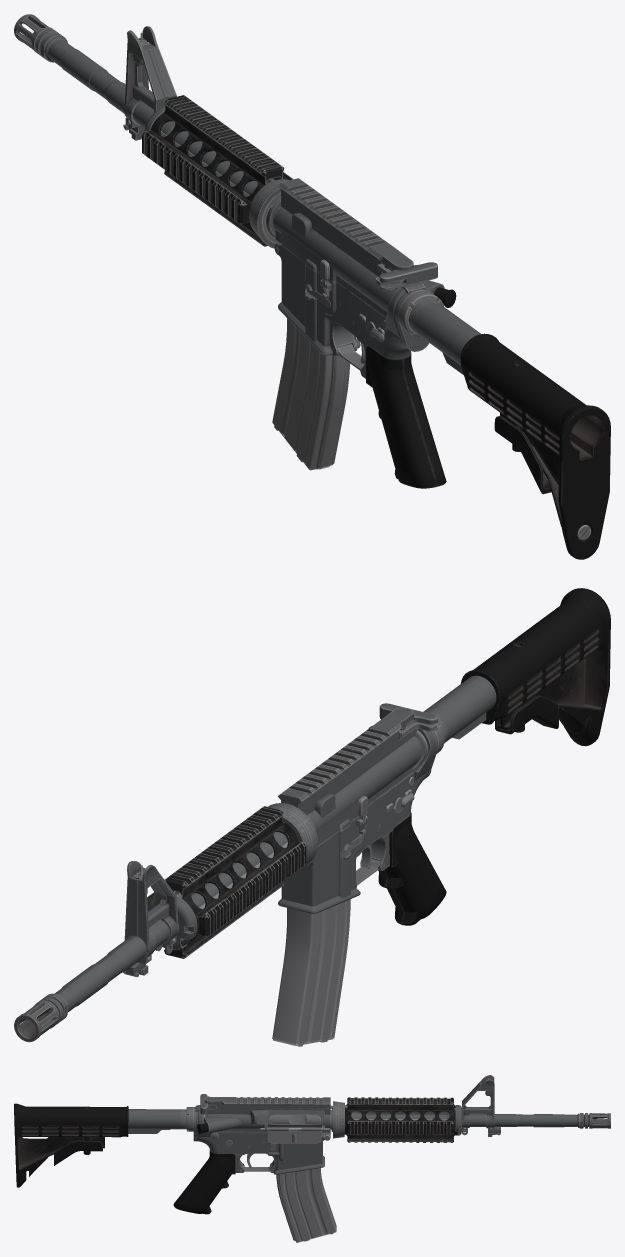
3 views of the same model, one above another, from view 1: azimuth 30°, elevation 25°; view 2: azimuth 150°, elevation 25°; view 3: azimuth 270°, elevation 25° (orthographic). The views are drawn at different scales.
Parts seen in each view (by area): view 1: ClassicBodyGeometry0, MagazineGeometry2; view 2: ClassicBodyGeometry0, MagazineGeometry2; view 3: ClassicBodyGeometry0, MagazineGeometry2, ChargingHandleGeometry1.
Part boxes in pixels (left/top/right/bottom): ClassicBodyGeometry0: left=14, top=14, right=610, bottom=559; MagazineGeometry2: left=272, top=318, right=350, bottom=470; ClassicBodyGeometry0: left=14, top=588, right=610, bottom=1042; MagazineGeometry2: left=272, top=899, right=350, bottom=1046; ClassicBodyGeometry0: left=14, top=1075, right=610, bottom=1214; MagazineGeometry2: left=276, top=1168, right=336, bottom=1242; ChargingHandleGeometry1: left=268, top=1115, right=320, bottom=1123.
Bounding box in the file's own units: 0.1144 × 0.4295 × 1.43.
Materials: 1 (1 with a texture image).
